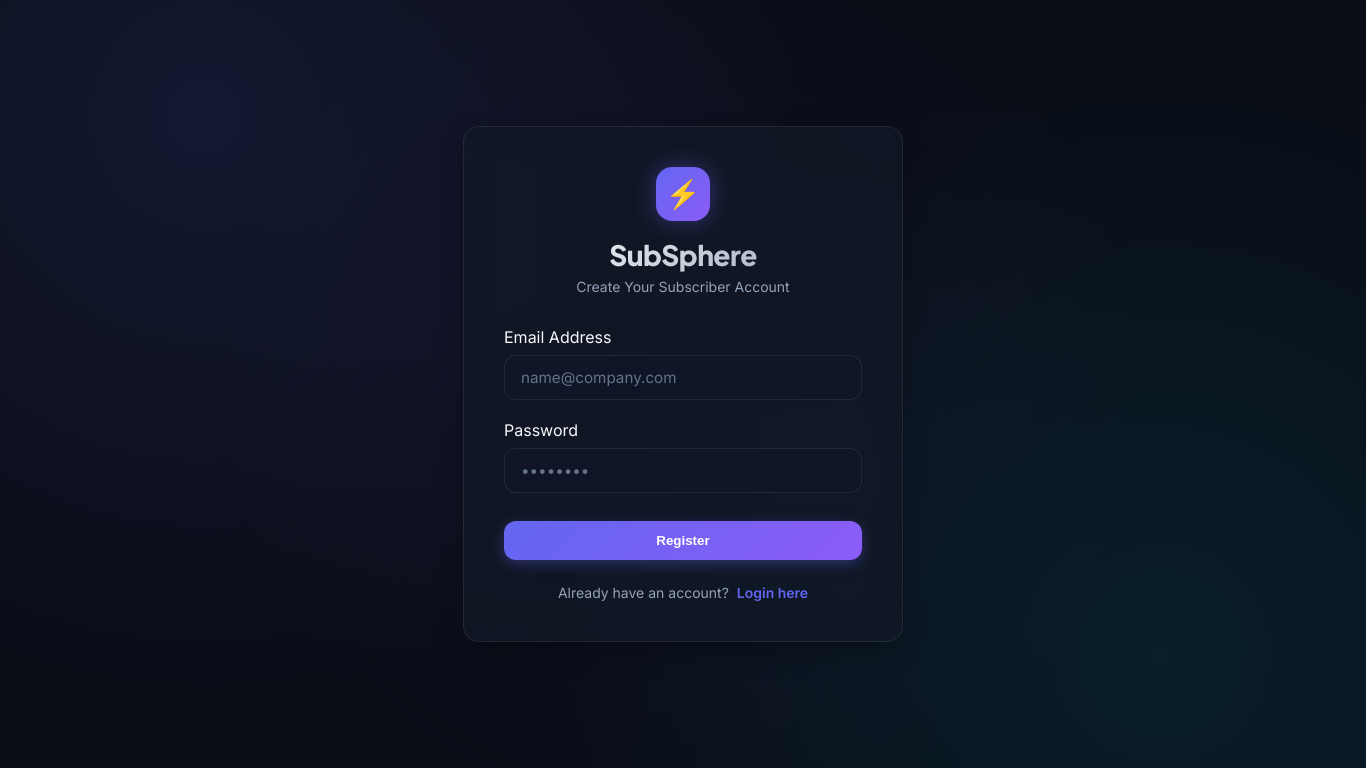
RegisterPage › displays error on registration failure
Type "test@example.com" into the field labelled "Email Address" at (683, 377), box [504, 355, 862, 400]
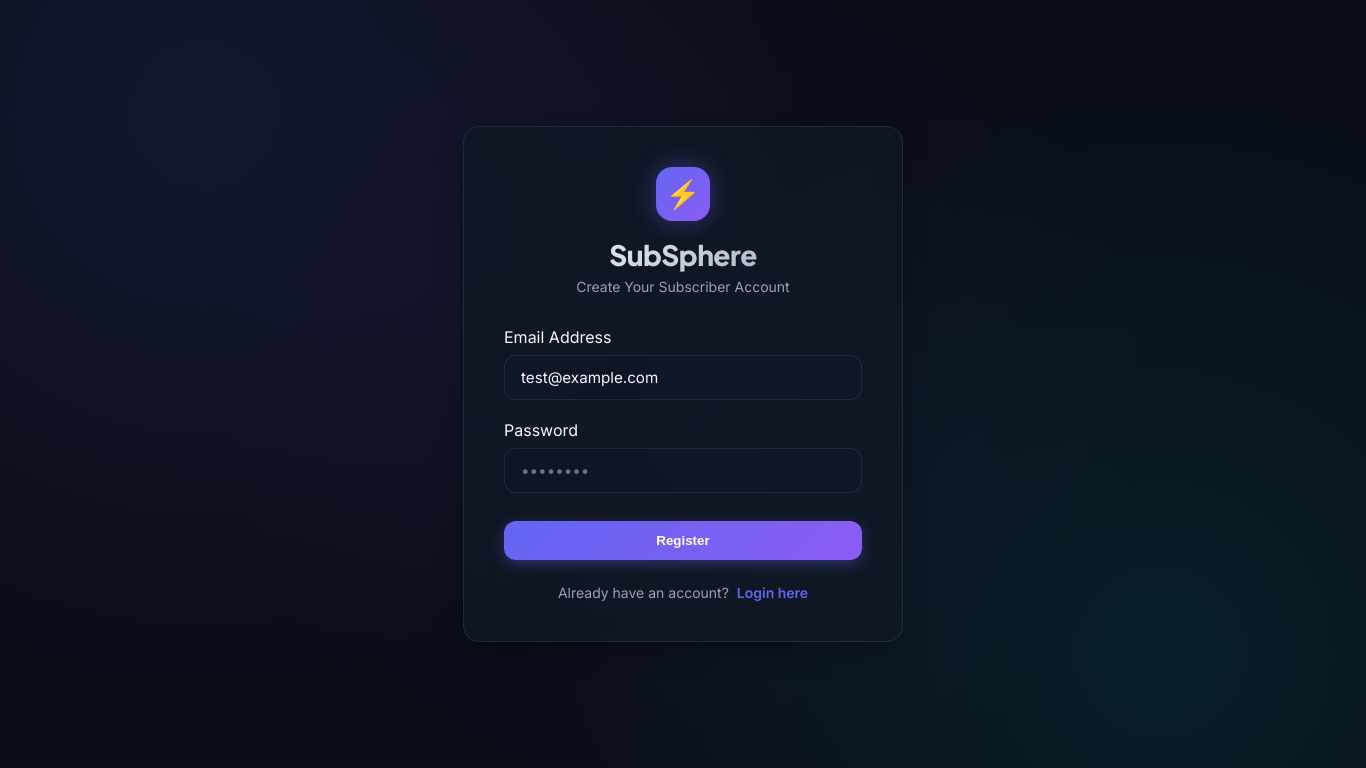
Type "Password123!" into the password field labelled "Password" at (683, 470), box [504, 448, 862, 493]
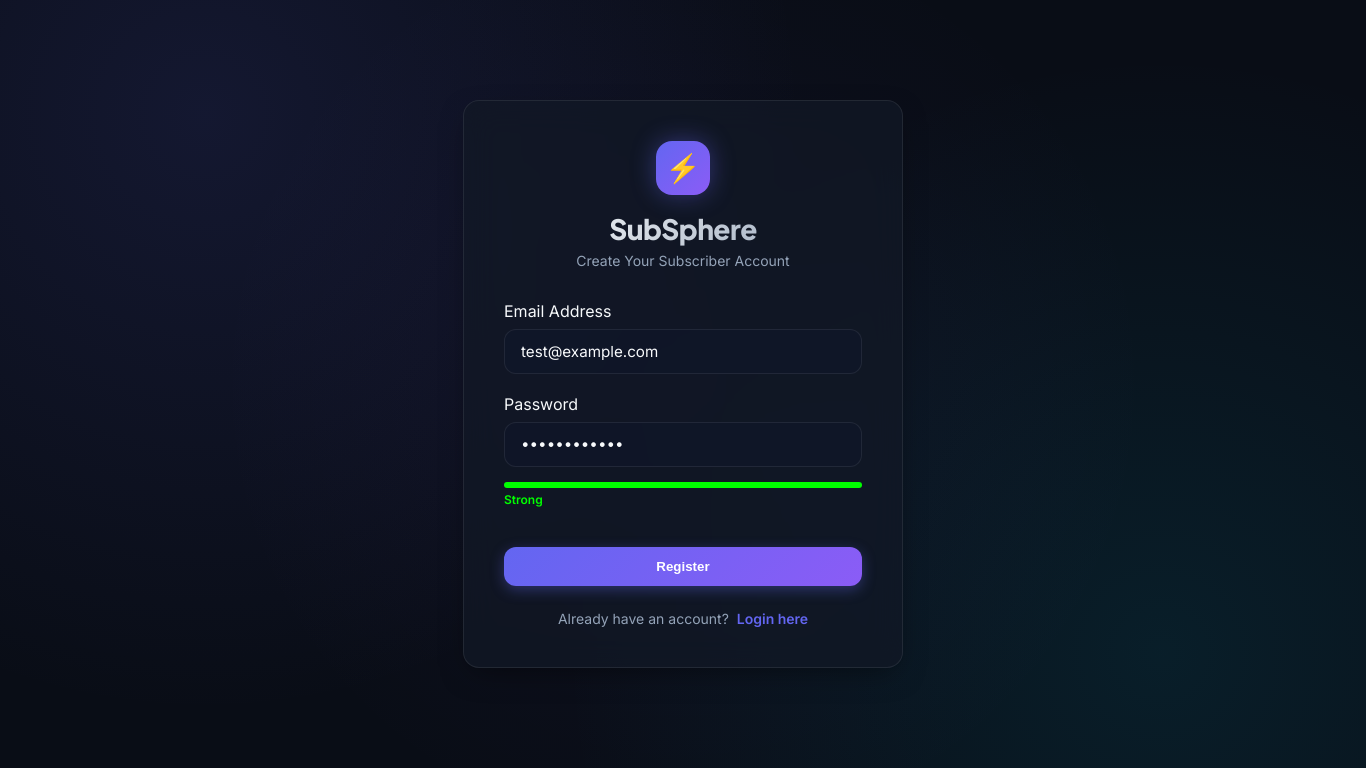
Click the button "Register" at (683, 567), box [504, 547, 862, 586]
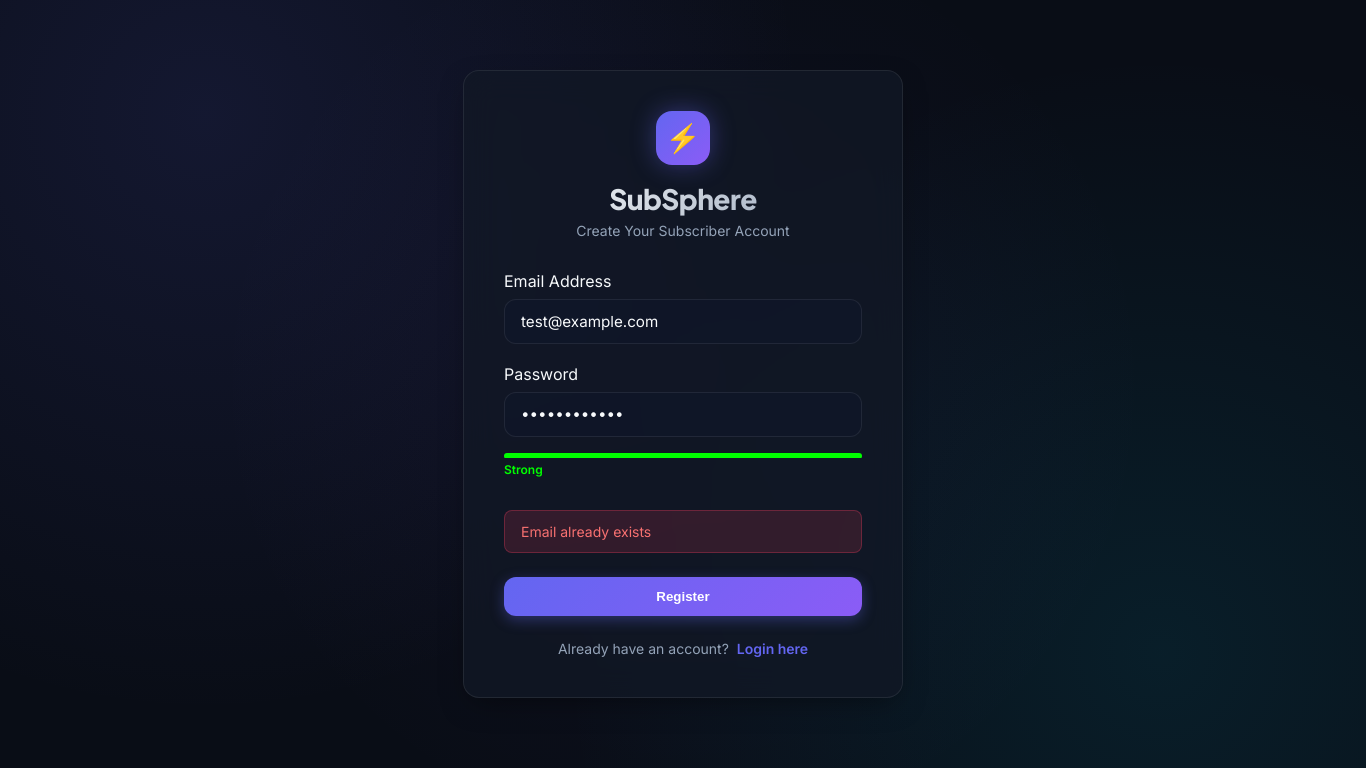
Expected: the text "Email already exists" is shown, [504, 510, 862, 553]
